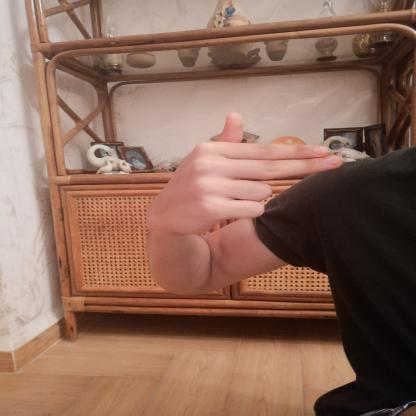GHAYN: (132, 103, 357, 248)
